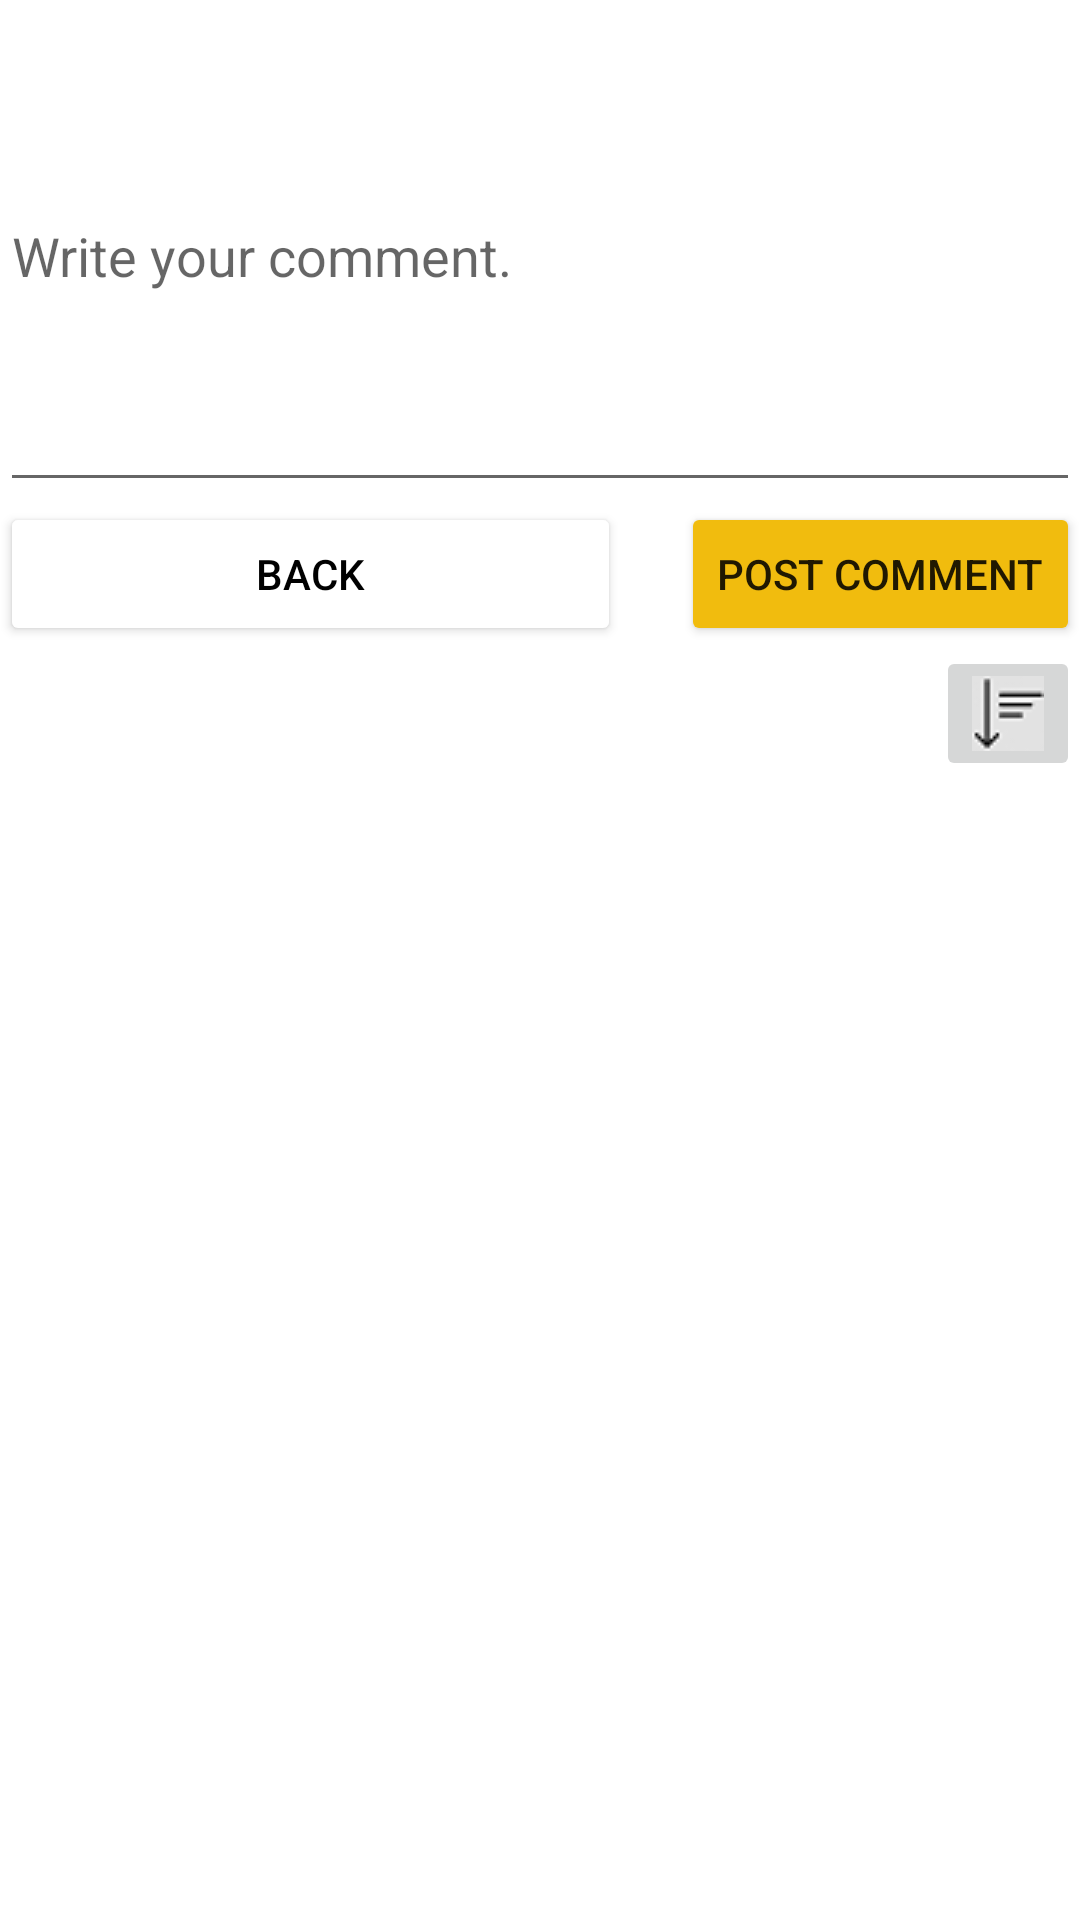

Point at icon controls on the screen. Image size 1080 × 1920, points as (x,y).
sort: (1008,713)
